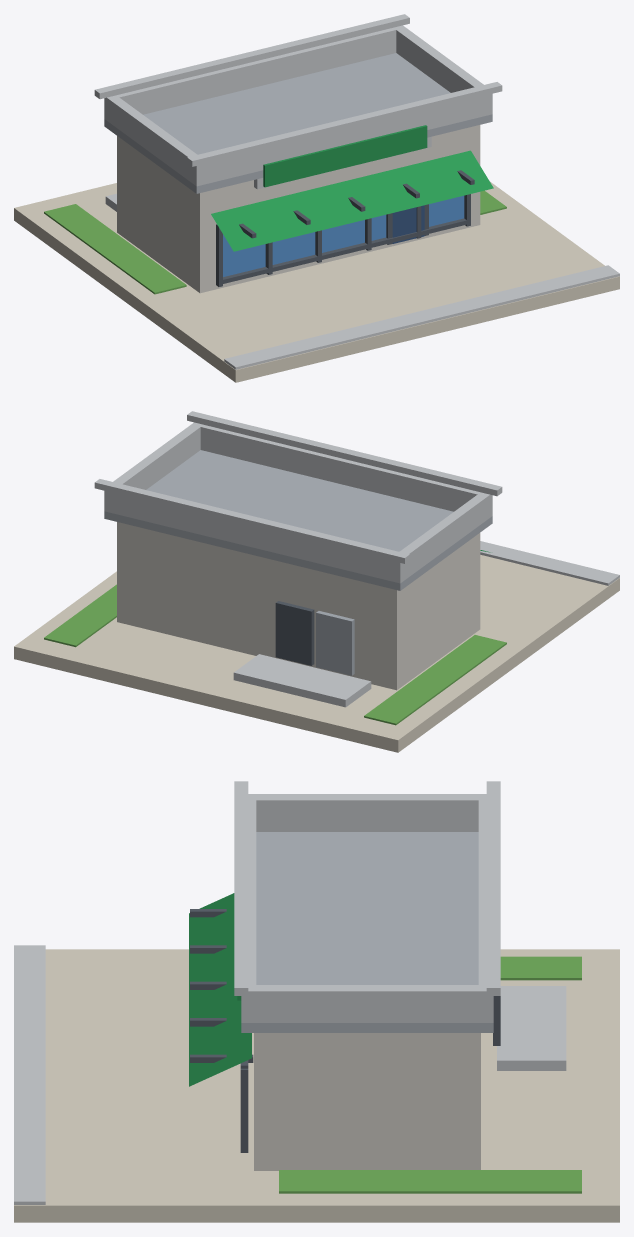
The picture shows the model from 3 angles, top to bottom: view 1: azimuth 30°, elevation 25°; view 2: azimuth 150°, elevation 25°; view 3: azimuth 270°, elevation 25°; orthographic projection. The views are drawn at different scales.
Parts seen in each view (by area): view 1: b13_v2_lod1; view 2: b13_v2_lod1; view 3: b13_v2_lod1.
Boxes of the visible parts, left/top/right/bottom form: b13_v2_lod1: left=14, top=14, right=619, bottom=382; b13_v2_lod1: left=14, top=411, right=619, bottom=752; b13_v2_lod1: left=14, top=781, right=619, bottom=1222.
Bounding box in the file's own units: 0.96 × 0.367 × 0.96.
